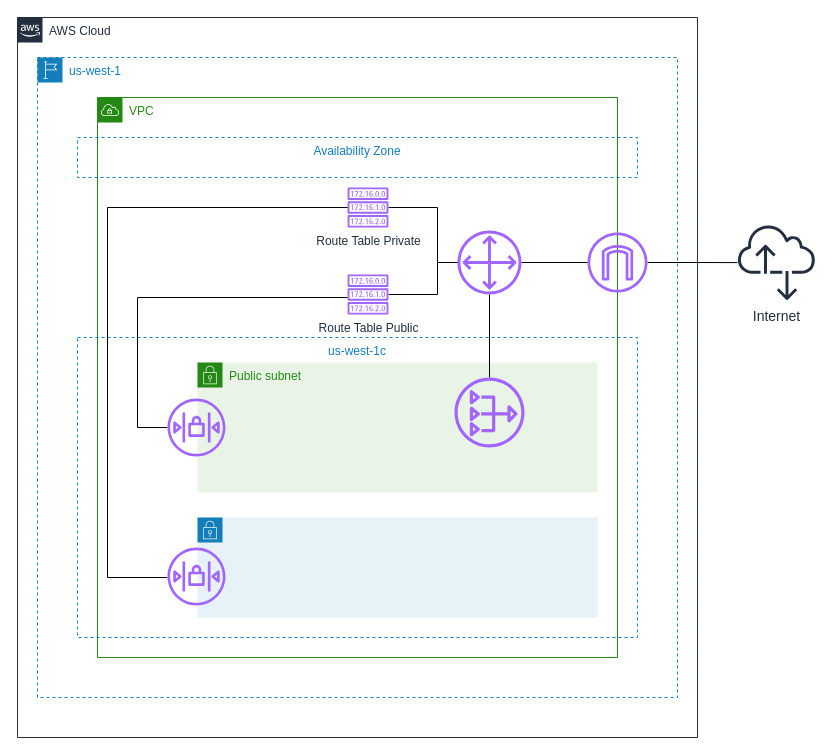
Image size: 833x755. Some labels were removed from this diagram. Each missing label, with the centre of its shape:
Internet Gateway: (617,262)
NAT Gateway: (489,412)
Private subnet: (397,567)
Router: (489,262)
